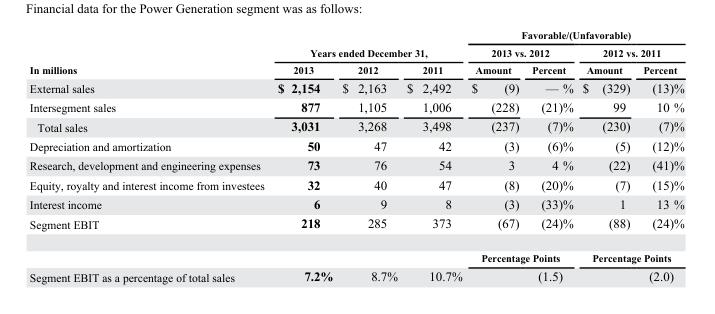table: (28, 28, 683, 283)
table column: (28, 28, 270, 283), (270, 28, 336, 283), (336, 28, 401, 283), (401, 28, 466, 283), (577, 28, 636, 283), (466, 28, 524, 283), (524, 28, 577, 283), (636, 28, 683, 283)
table column header: (28, 28, 683, 77)
table row: (28, 213, 683, 241), (28, 241, 683, 266), (28, 96, 683, 116), (28, 135, 683, 155), (28, 193, 683, 213), (28, 77, 683, 96), (28, 116, 683, 135), (28, 155, 683, 174), (28, 174, 683, 193), (28, 43, 683, 60), (28, 60, 683, 77), (28, 266, 683, 283), (28, 28, 683, 43)
table spanning cell: (28, 28, 270, 77), (270, 28, 466, 60), (466, 28, 683, 43), (466, 241, 577, 266), (577, 241, 683, 266), (466, 43, 577, 60), (577, 43, 683, 60)
